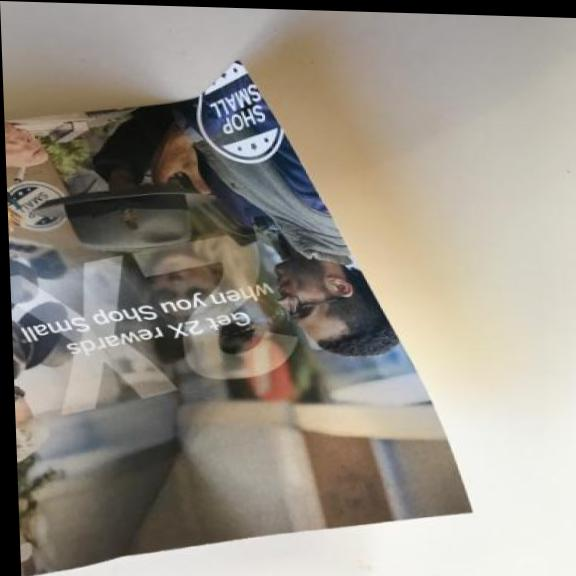Kertas: (2, 49, 485, 576)
